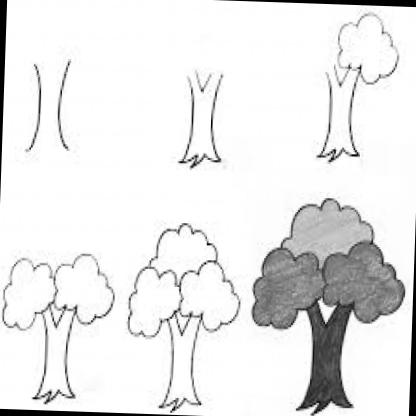branch_cut: (304, 294, 356, 327)
crown_cloud: (247, 192, 413, 335)
root_only: (295, 382, 362, 416)
trunk_straight: (306, 334, 350, 381)
